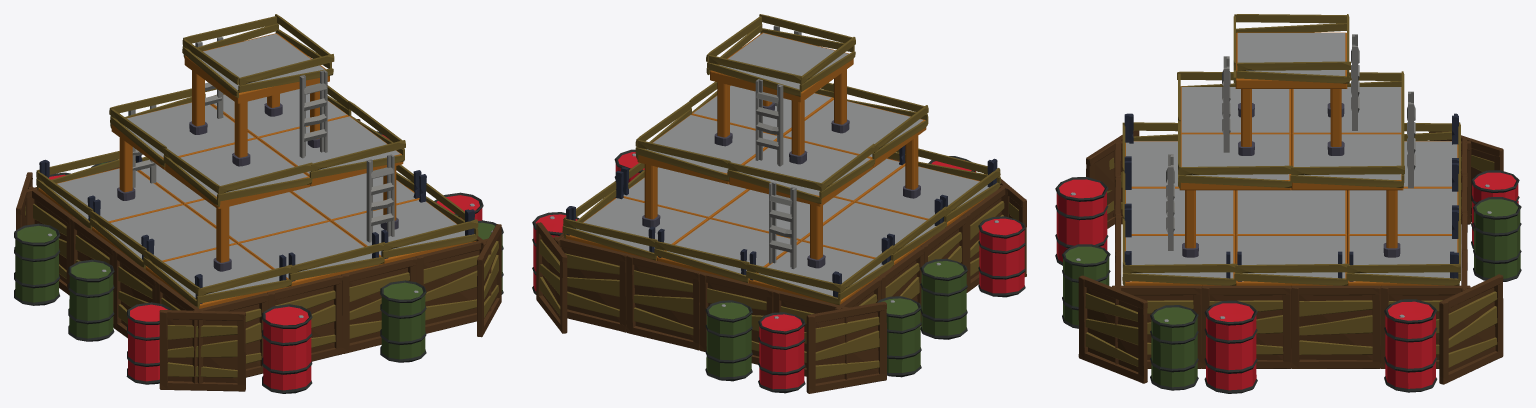
The model's file is SmallBunkerSeperatedPartsOneMaterial.fbx.
3 renders of one model, left to right at view 1: azimuth 30°, elevation 25°; view 2: azimuth 150°, elevation 25°; view 3: azimuth 270°, elevation 25°, orthographic. The views are drawn at different scales.
Parts seen in each view (by area): view 1: SmallBunker.262, SmallBunker.272, SmallBunker.014, SmallBunker.301, SmallBunker.205, SmallBunker.013, SmallBunker.009, SmallBunker.001, SmallBunker.005, SmallBunker.006, SmallBunker.012, SmallBunker.303 (+58 smaller); view 2: SmallBunker.194, SmallBunker.172, SmallBunker.152, SmallBunker.014, SmallBunker.013, SmallBunker.011, SmallBunker.009, SmallBunker.298, SmallBunker.291, SmallBunker.293, SmallBunker.297, SmallBunker.001 (+58 smaller); view 3: SmallBunker.140, SmallBunker.158, SmallBunker.006, SmallBunker.014, SmallBunker.007, SmallBunker.287, SmallBunker.288, SmallBunker.011, SmallBunker.012, SmallBunker.137, SmallBunker.001, SmallBunker.013 (+49 smaller).
Part boxes in pixels (x1,y1,x2,y2): SmallBunker.262: (159, 310, 245, 391); SmallBunker.272: (415, 238, 491, 333); SmallBunker.014: (184, 33, 329, 103); SmallBunker.301: (262, 304, 312, 393); SmallBunker.205: (340, 256, 416, 353); SmallBunker.013: (165, 138, 310, 208); SmallBunker.009: (92, 204, 236, 261); SmallBunker.001: (111, 102, 256, 169); SmallBunker.005: (238, 221, 383, 286); SmallBunker.006: (185, 192, 329, 243); SmallBunker.012: (258, 116, 403, 186); SmallBunker.303: (380, 280, 426, 362); SmallBunker.194: (806, 301, 886, 393); SmallBunker.172: (626, 254, 701, 350); SmallBunker.152: (553, 236, 628, 332); SmallBunker.014: (710, 32, 853, 102); SmallBunker.013: (783, 99, 926, 167); SmallBunker.011: (637, 114, 776, 184); SmallBunker.009: (802, 202, 936, 265); SmallBunker.298: (978, 216, 1025, 297); SmallBunker.291: (758, 312, 805, 393); SmallBunker.293: (705, 300, 752, 381); SmallBunker.297: (920, 258, 967, 339); SmallBunker.001: (729, 137, 873, 206); SmallBunker.140: (1291, 285, 1380, 368); SmallBunker.158: (1439, 274, 1503, 384); SmallBunker.006: (1235, 190, 1347, 235); SmallBunker.014: (1235, 32, 1347, 88); SmallBunker.007: (1347, 188, 1458, 236); SmallBunker.287: (1204, 300, 1257, 393); SmallBunker.288: (1384, 299, 1437, 392); SmallBunker.011: (1291, 134, 1403, 190); SmallBunker.012: (1179, 134, 1291, 190); SmallBunker.137: (1201, 285, 1291, 368); SmallBunker.001: (1291, 87, 1401, 134); SmallBunker.013: (1180, 86, 1291, 134).
Bounding box in the file's own units: 12.39 × 7.63 × 12.51.
Materials: 1 (1 with a texture image).
